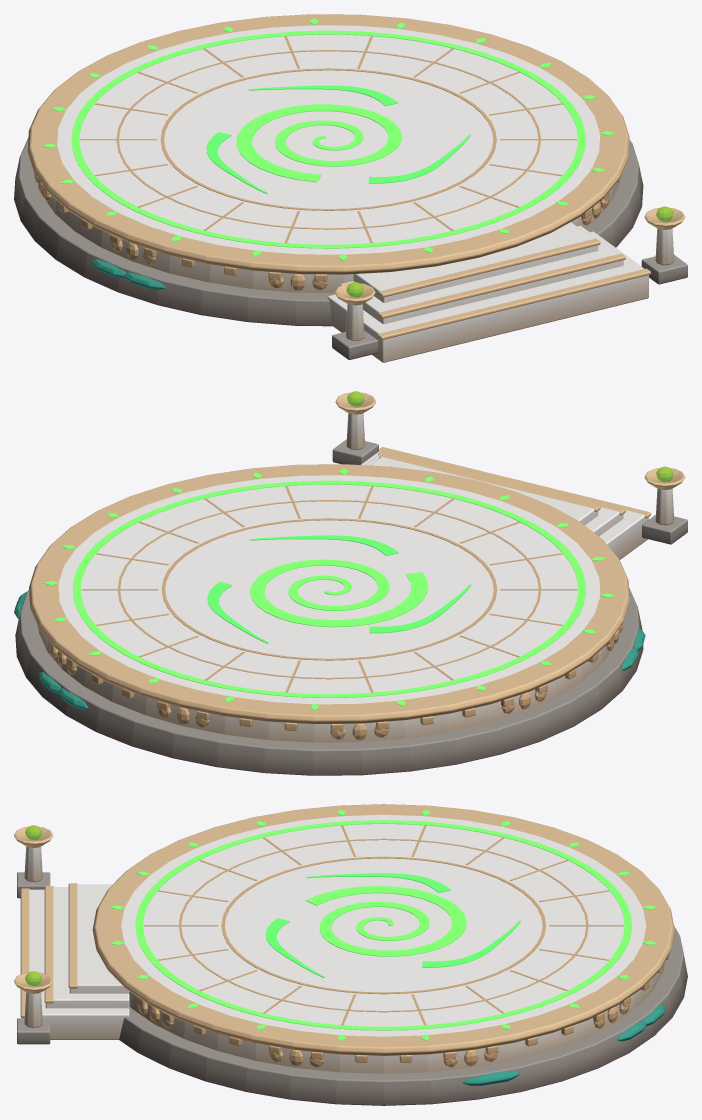
Rendered from grove_dais_wind.glb.
The picture shows the model from 3 angles, top to bottom: view 1: azimuth 30°, elevation 25°; view 2: azimuth 150°, elevation 25°; view 3: azimuth 270°, elevation 25°; orthographic projection. The views are drawn at different scales.
Visible parts, largest first — view 1: grove_dais_wind; view 2: grove_dais_wind; view 3: grove_dais_wind.
Boxes of the visible parts, x1=… form: grove_dais_wind: x1=14, y1=14, x2=687, y2=362; grove_dais_wind: x1=14, y1=391, x2=687, y2=775; grove_dais_wind: x1=14, y1=804, x2=687, y2=1105.
Size of the model in its own units: 12.69 by 1.81 by 14.05.
Materials: 3 (3 with a texture image).
